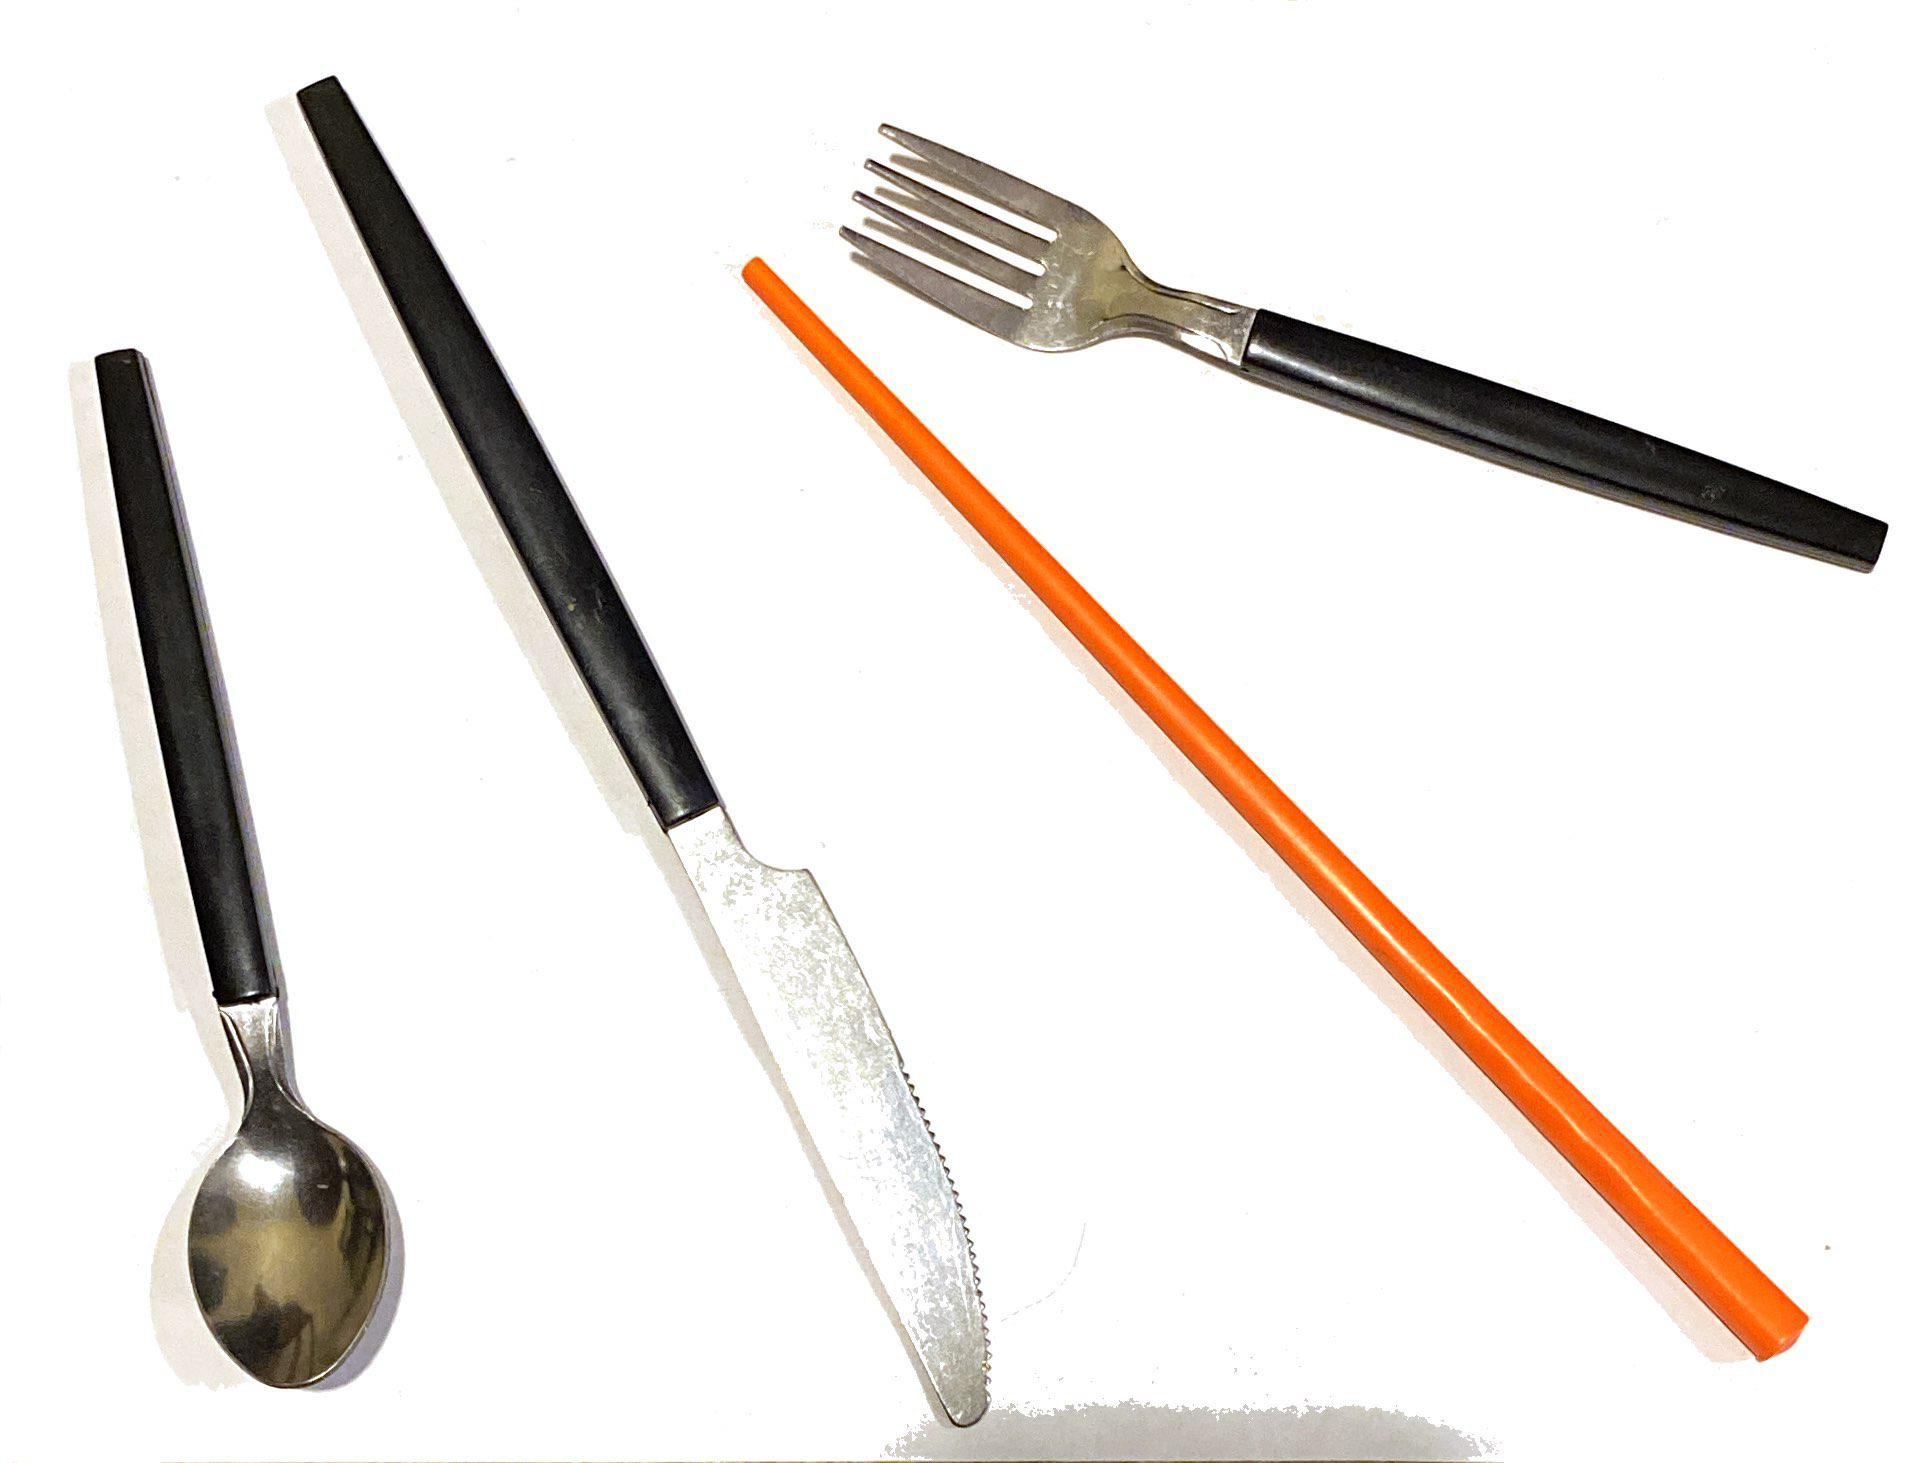Chopstick: (664, 231, 1884, 1418)
Fork: (848, 83, 1904, 590)
Knife: (226, 68, 1051, 1445)
Spoon: (8, 324, 423, 1432)
